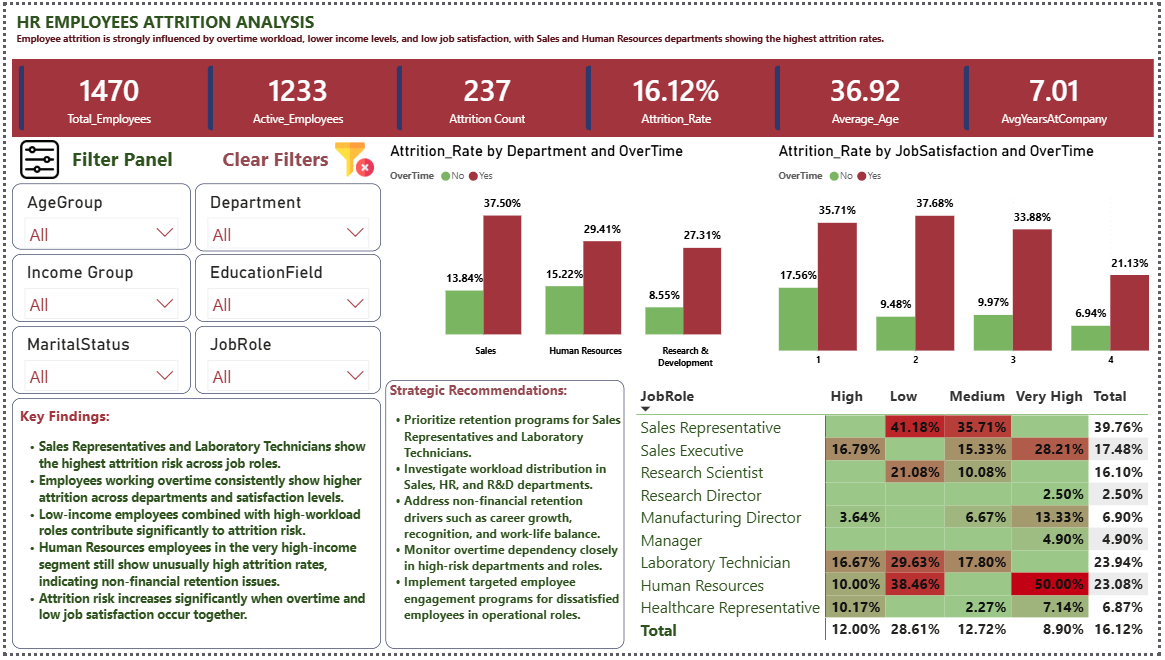

What the dashboard file says about the page in this screenshot:
{"tool":"powerbi","page":{"name":"Dashboard 2","canvas":[1280,720],"ordinal":1},"visuals":[{"type":"shape","box":[0,0,1280,720],"z":0},{"type":"clusteredColumnChart","fields":{"Category":["HR_Analytics.Department"],"Y":["HR_Analytics.Attrition_Rate"],"Series":["HR_Analytics.OverTime"]},"box":[421.7,151.7,426.7,260],"z":1000},{"type":"pivotTable","fields":{"Rows":["HR_Analytics.JobRole"],"Values":["HR_Analytics.Attrition_Rate"],"Columns":["HR_Analytics.Income Group"]},"box":[695,416.7,580,300],"z":2000},{"type":"cardVisual","fields":{"Data":["HR_Analytics.Total_Employees","HR_Analytics.Active_Employees","HR_Analytics.Attrition Count","HR_Analytics.Attrition_Rate","HR_Analytics.Average_Age","HR_Analytics.AverageYearsAtCompany"]},"box":[6.7,60,1268.3,86.7],"z":3000},{"type":"textbox","box":[6.7,0,1268.3,63.3],"z":4000},{"type":"textbox","box":[421.7,416.7,265,298.3],"z":5000},{"type":"textbox","box":[6.7,436.7,410,278.3],"z":6000},{"type":"slicer","fields":{"Values":["HR_Analytics.AgeGroup"]},"box":[6.7,198.4,198.3,73.3],"z":7000},{"type":"slicer","fields":{"Values":["HR_Analytics.Income Group"]},"box":[6.7,277.3,198.3,75],"z":8000},{"type":"slicer","fields":{"Values":["HR_Analytics.JobRole"]},"box":[210,357.3,206.7,75],"z":9000},{"type":"slicer","fields":{"Values":["HR_Analytics.MaritalStatus"]},"box":[6.7,357.3,198.3,75],"z":10000},{"type":"slicer","fields":{"Values":["HR_Analytics.Department"]},"box":[210,199,206.7,75],"z":11000},{"type":"slicer","fields":{"Values":["HR_Analytics.EducationField"]},"box":[210,277.3,206.7,75],"z":12000},{"type":"textbox","box":[68.3,150,136.7,43.3],"z":13000},{"type":"image","box":[8.3,150,58.3,43.3],"z":14000},{"type":"textbox","box":[228.3,150,135,43.3],"z":15000},{"type":"image","box":[358.3,150,58.3,43.3],"z":16000},{"type":"clusteredColumnChart","fields":{"Y":["HR_Analytics.Attrition_Rate"],"Series":["HR_Analytics.OverTime"],"Category":["HR_Analytics.JobSatisfaction"]},"box":[853.3,152.2,421.7,260],"z":18000}]}

Visuals, with their boxes in screenshot pixels (x1, y1, x2, y2), scaled from the page's 1280x720 canvas onto the 1165x660 screenshot:
shape: left=0, top=0, right=1164, bottom=659
clusteredColumnChart - HR_Analytics.Department x HR_Analytics.Attrition_Rate: left=384, top=139, right=772, bottom=377
pivotTable - HR_Analytics.JobRole x HR_Analytics.Attrition_Rate: left=633, top=382, right=1160, bottom=657
cardVisual - HR_Analytics.Total_Employees x HR_Analytics.Active_Employees: left=6, top=55, right=1160, bottom=134
textbox: left=6, top=0, right=1160, bottom=58
textbox: left=384, top=382, right=625, bottom=655
textbox: left=6, top=400, right=379, bottom=655
slicer - HR_Analytics.AgeGroup: left=6, top=182, right=187, bottom=249
slicer - HR_Analytics.Income Group: left=6, top=254, right=187, bottom=323
slicer - HR_Analytics.JobRole: left=191, top=328, right=379, bottom=396
slicer - HR_Analytics.MaritalStatus: left=6, top=328, right=187, bottom=396
slicer - HR_Analytics.Department: left=191, top=182, right=379, bottom=251
slicer - HR_Analytics.EducationField: left=191, top=254, right=379, bottom=323
textbox: left=62, top=138, right=187, bottom=177
image: left=8, top=138, right=61, bottom=177
textbox: left=208, top=138, right=331, bottom=177
image: left=326, top=138, right=379, bottom=177
clusteredColumnChart - HR_Analytics.Attrition_Rate x HR_Analytics.OverTime: left=777, top=140, right=1160, bottom=378
